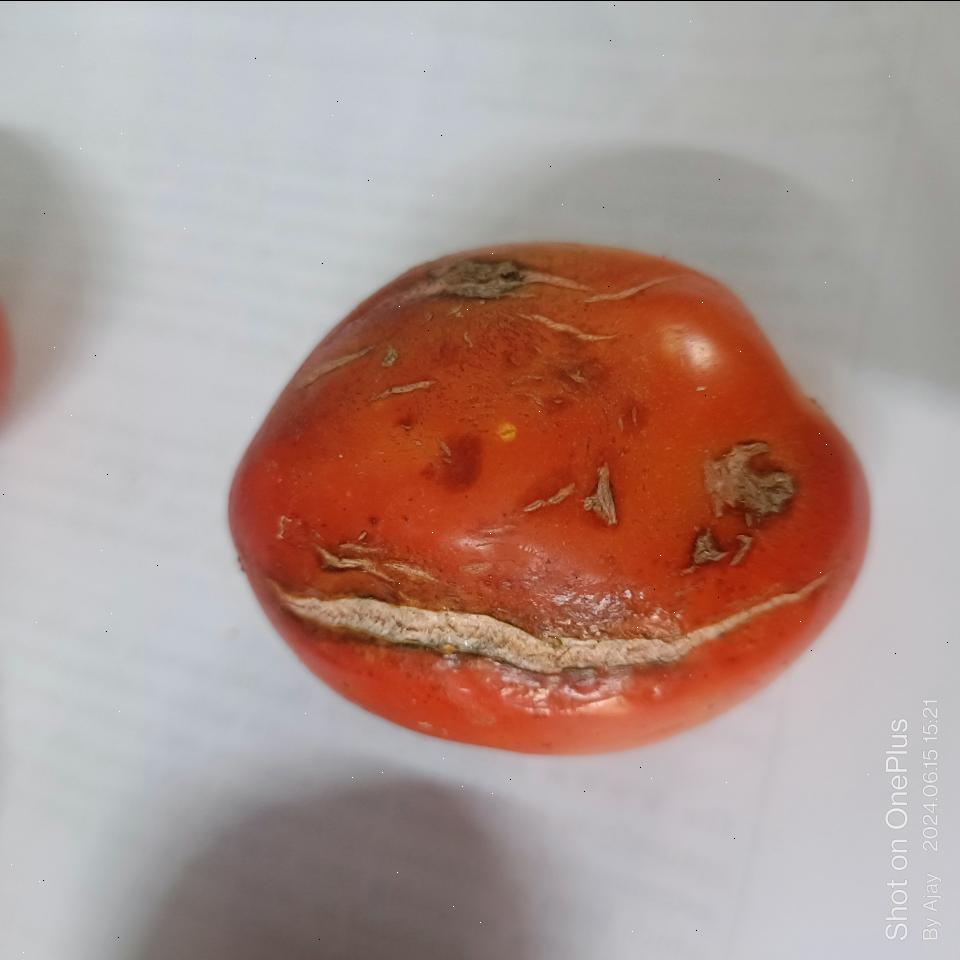Cracking: (259, 563, 831, 681), (671, 411, 819, 578)
